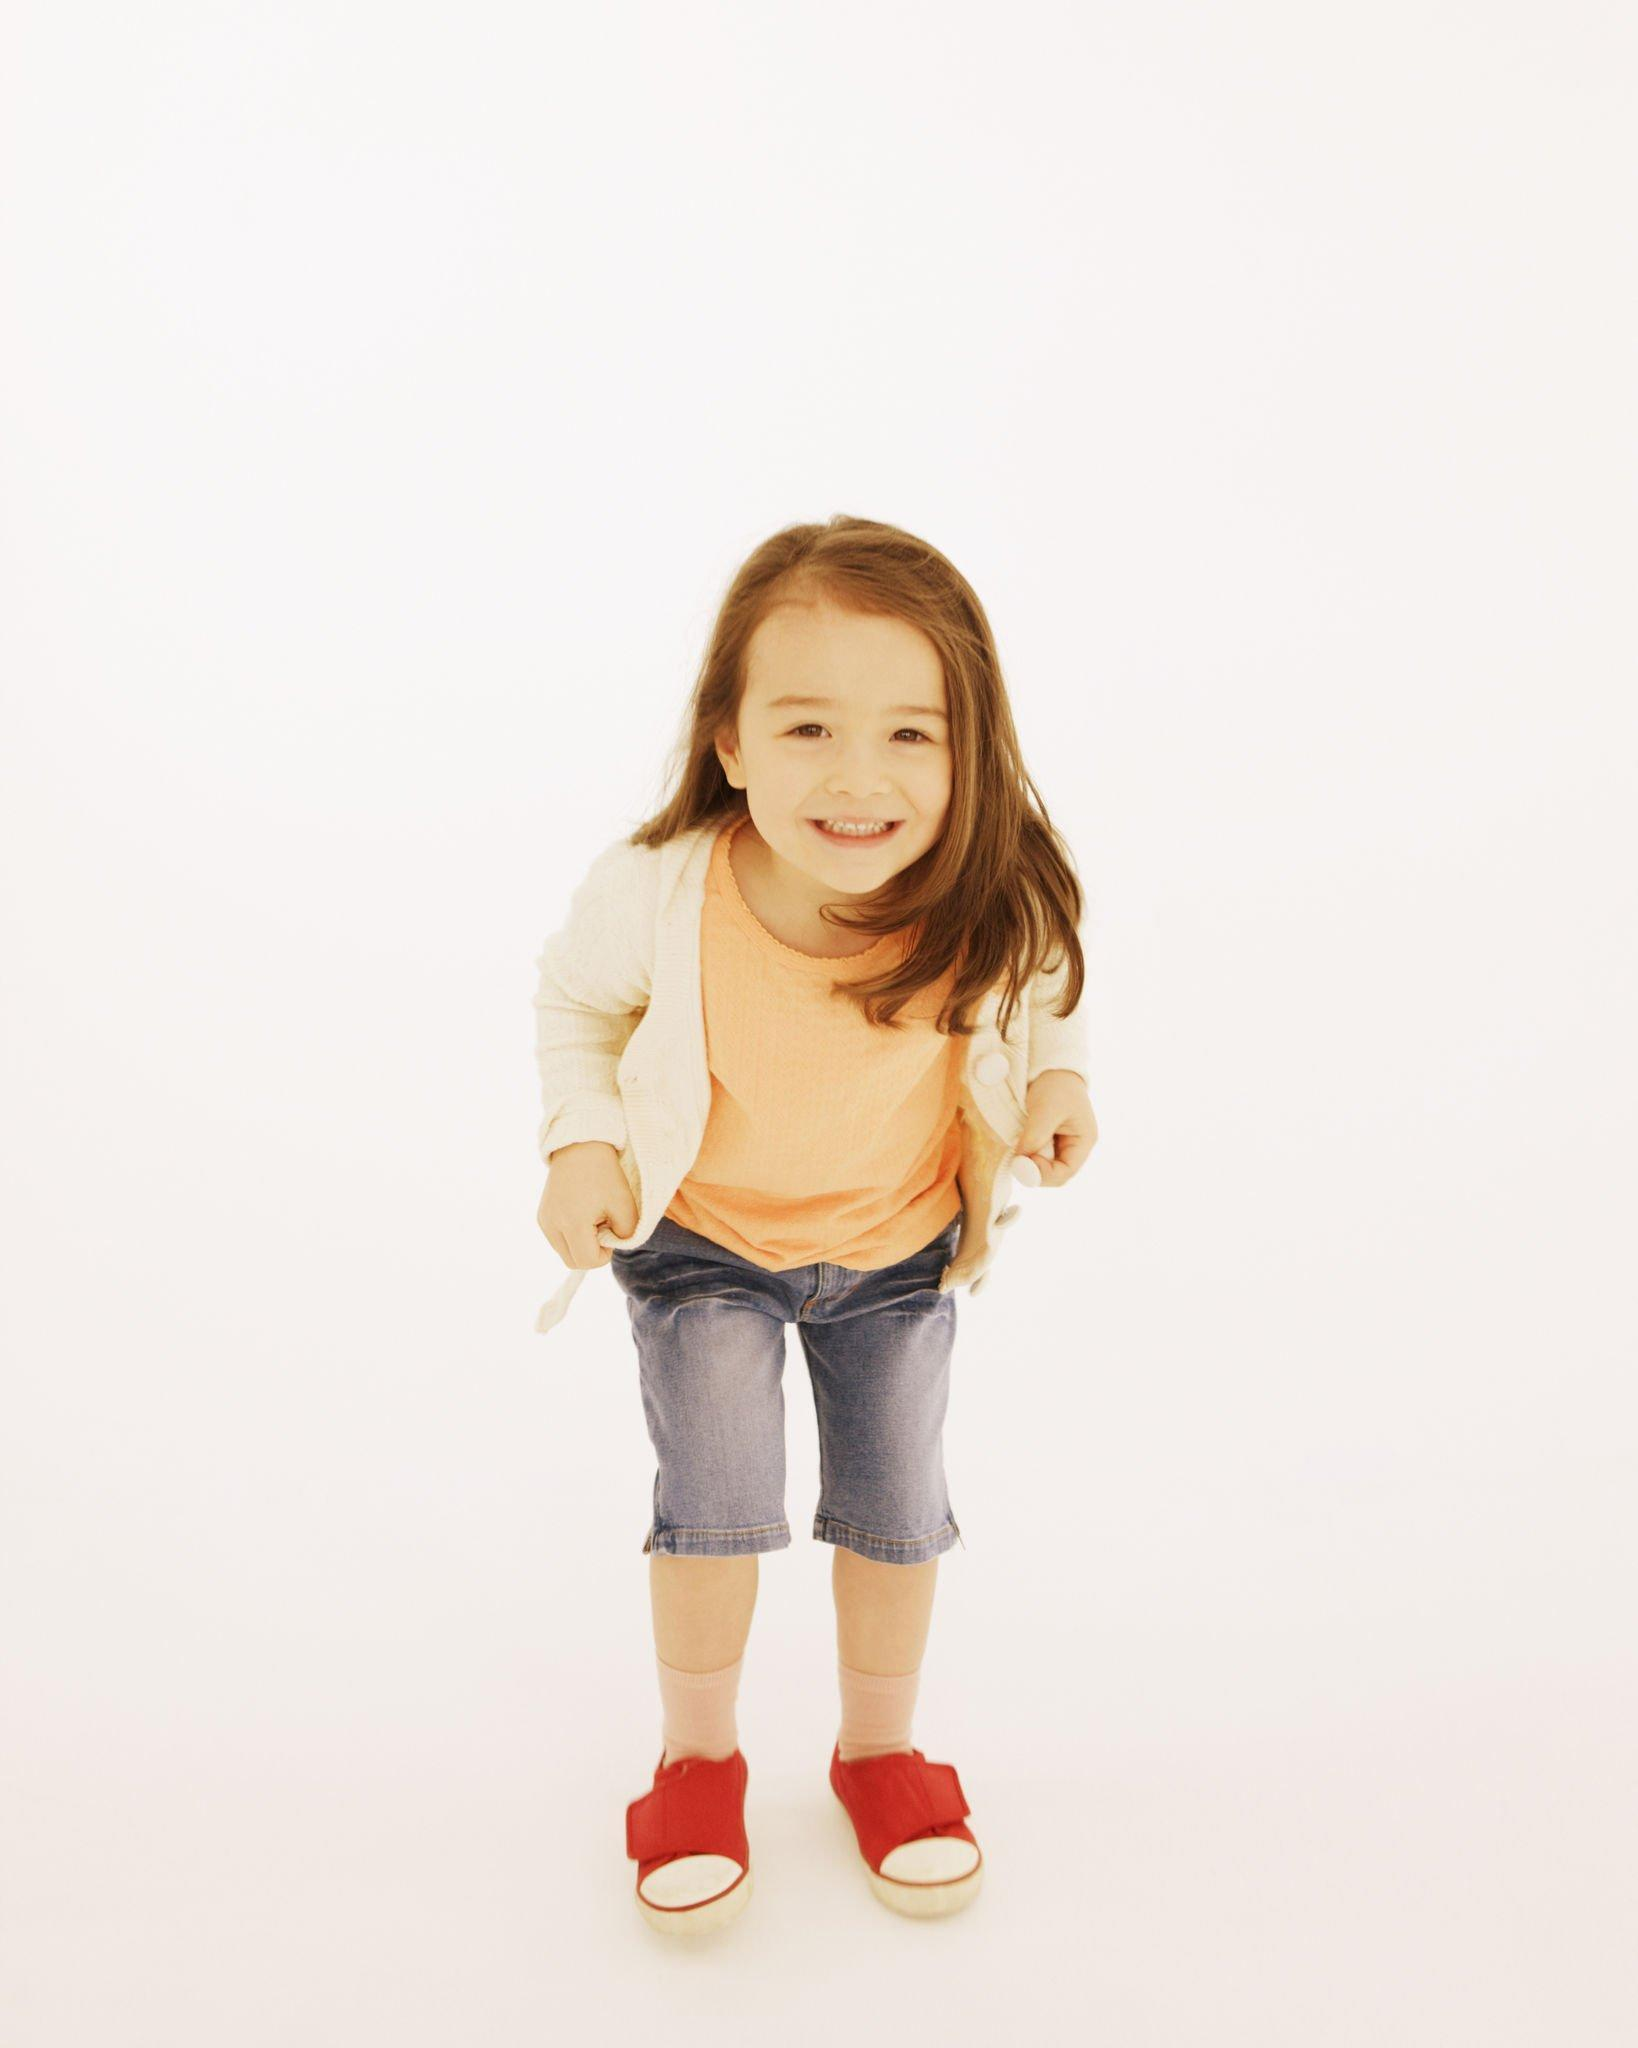Healthy: (717, 597, 994, 906)
